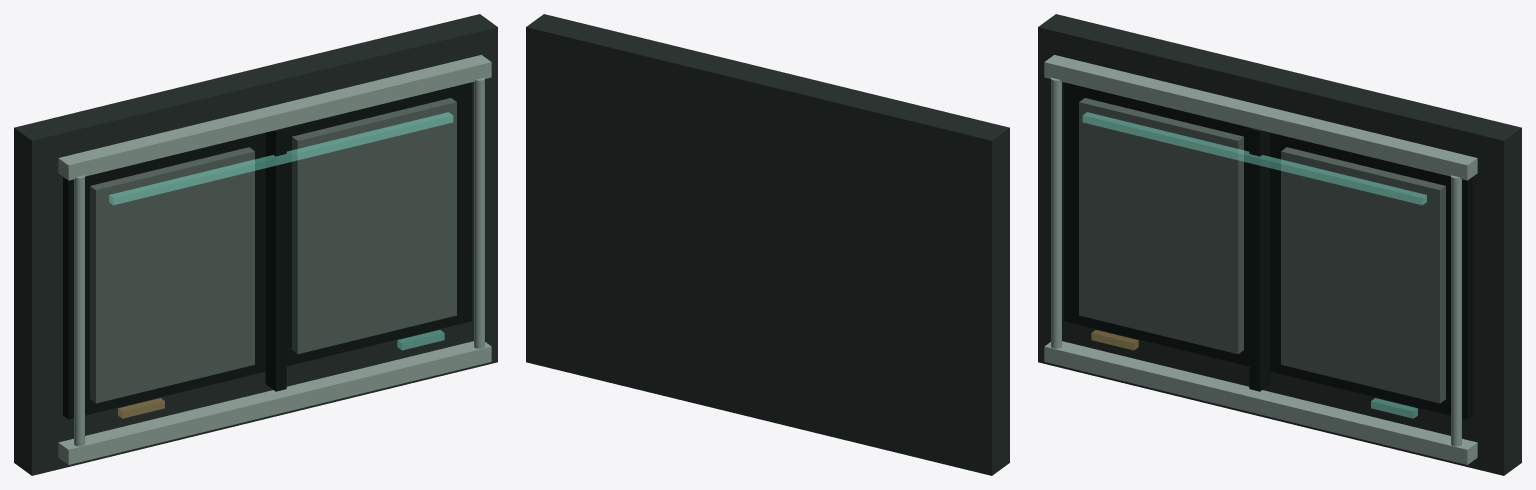
The model's file is hp_room_wall_panel_residential.glb.
3 views of the same model, side by side, from view 1: azimuth 30°, elevation 25°; view 2: azimuth 150°, elevation 25°; view 3: azimuth 330°, elevation 25° (orthographic).
Visible parts, largest first — view 1: residential_wall_structural_back, residential_wall_status_strip; view 2: residential_wall_structural_back; view 3: residential_wall_structural_back, residential_wall_status_strip.
Boxes of the visible parts, left/top/right/bottom form: residential_wall_structural_back: left=14, top=14, right=497, bottom=475; residential_wall_status_strip: left=109, top=112, right=453, bottom=418; residential_wall_structural_back: left=526, top=14, right=1009, bottom=475; residential_wall_structural_back: left=1038, top=14, right=1521, bottom=475; residential_wall_status_strip: left=1082, top=112, right=1426, bottom=418.
Bounding box in the file's own units: 2.4 × 1.65 × 0.326.
2 materials, 2 textured.
